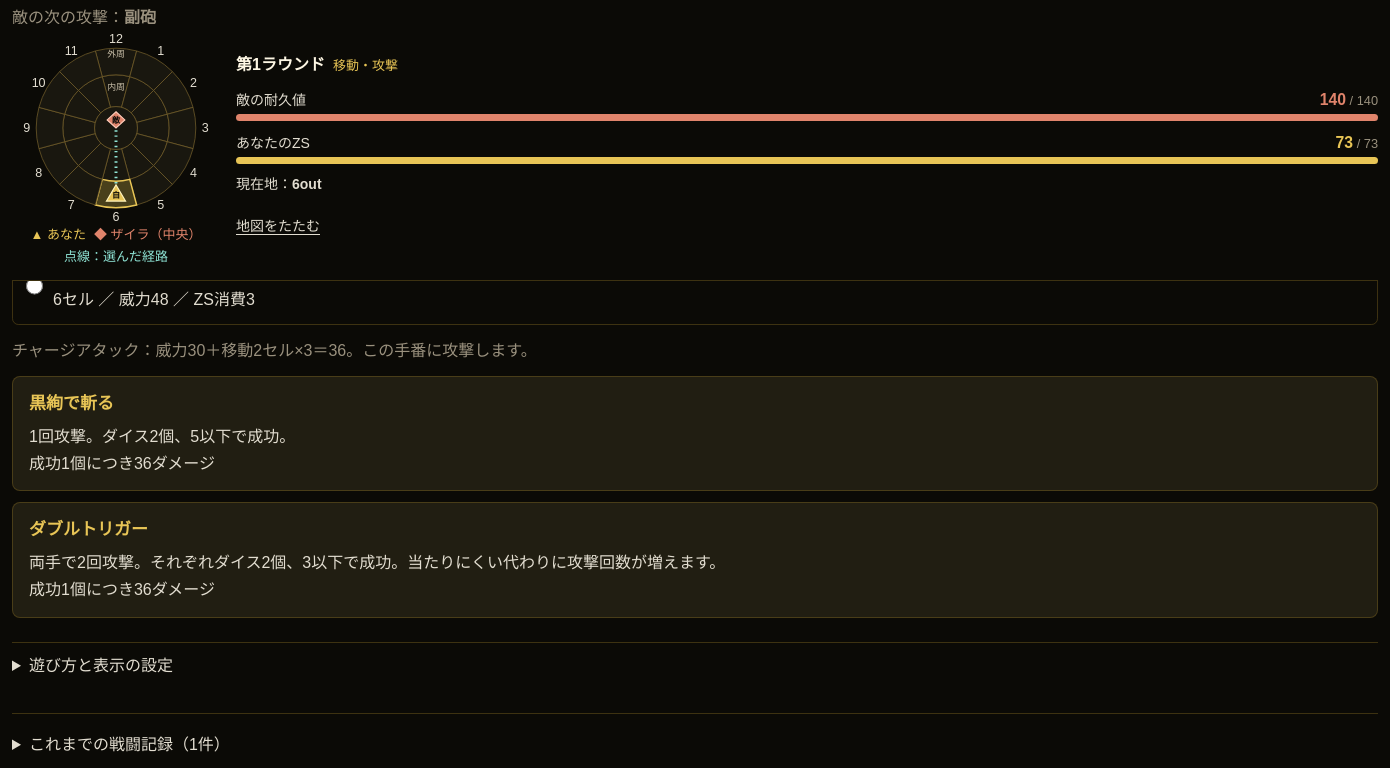
Test: 戦闘画面 › 攻撃を選び直してもダイスや位置を変えない
(page scrolled)
Click the button "黒絢で斬る 1回攻撃。ダイス2個、5以下で成功。 成功1個につき36ダメージ".
click(695, 434)  # box [12,376,1378,491]
(page scrolled)
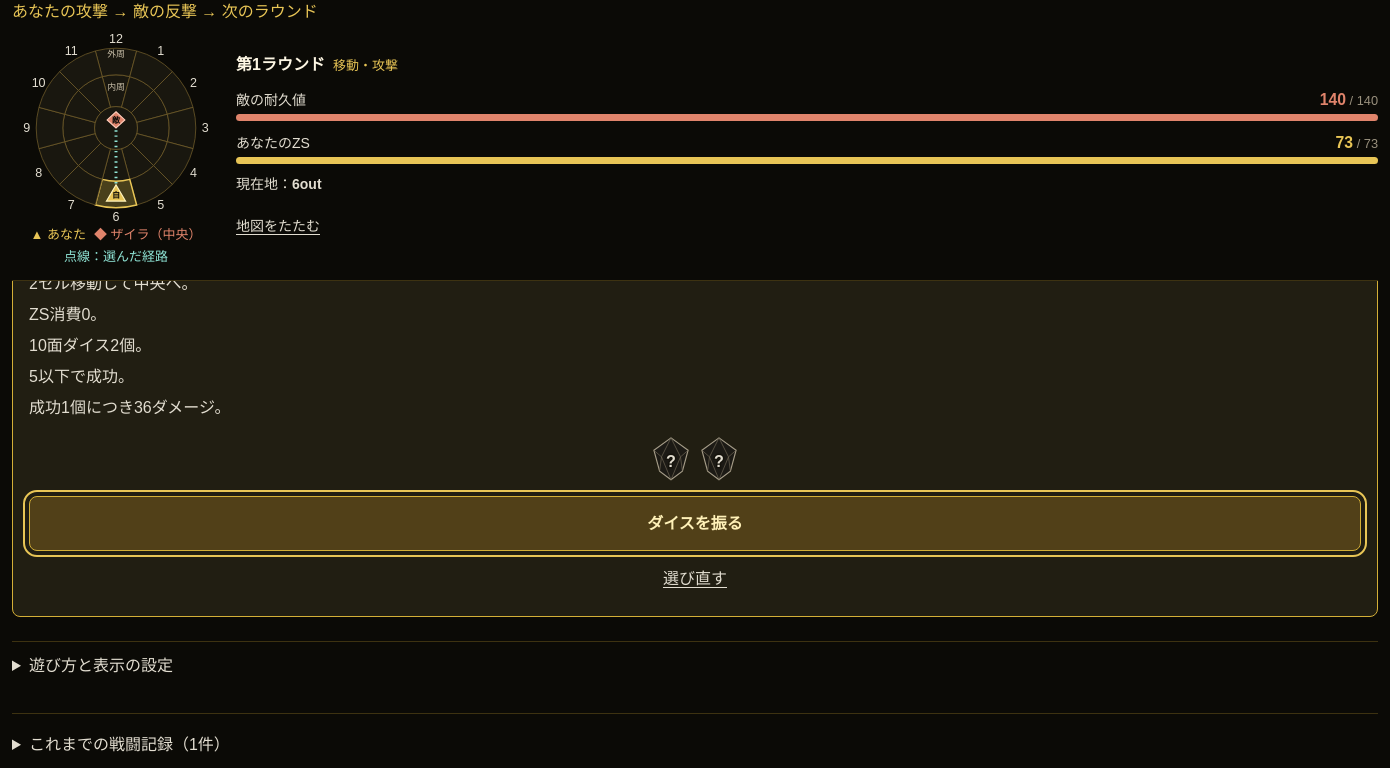
Click the button "選び直す".
click(695, 578)  # box [647,556,743,600]
(page scrolled)
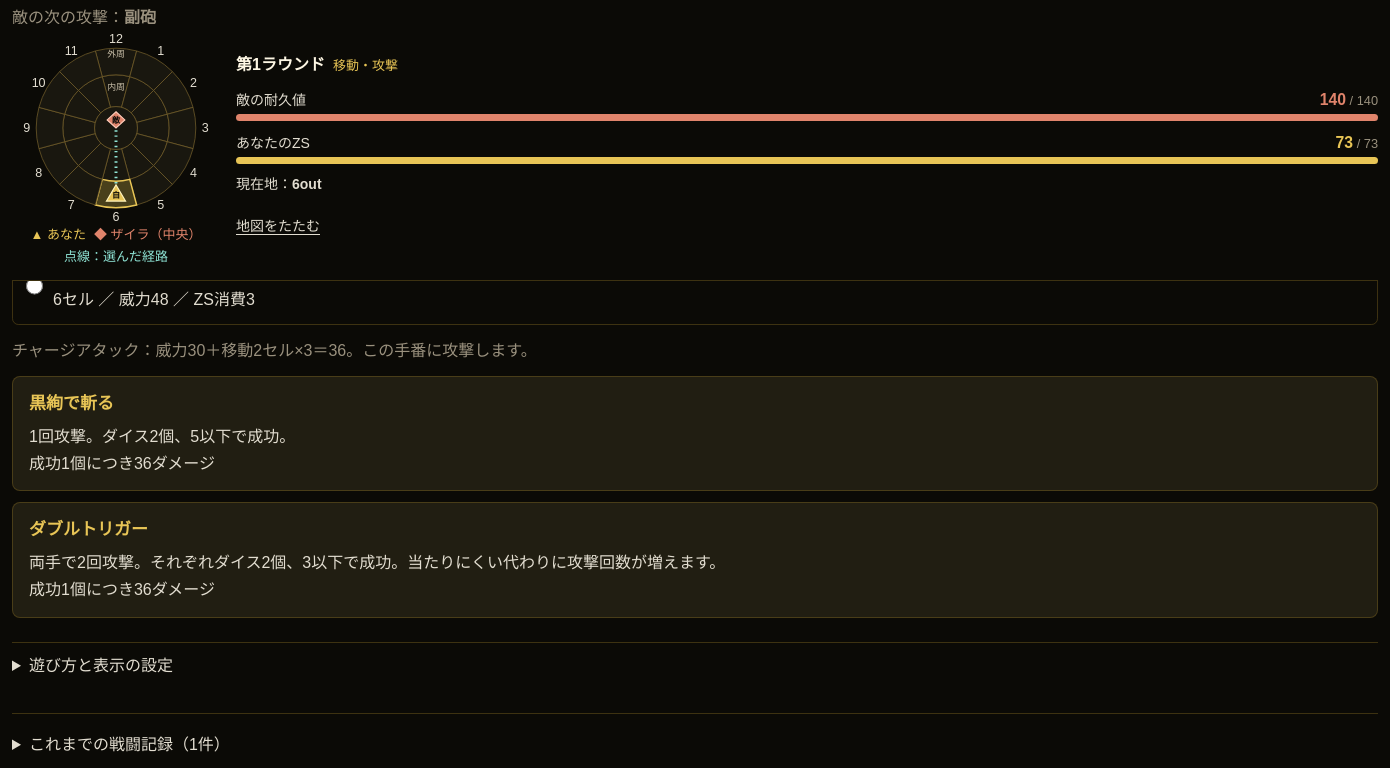
Check: the picture named "あなた：6out" is shown, box [12,32,220,224]
Check: the button "ダブルトリガー" is shown, box [12,502,1378,618]
